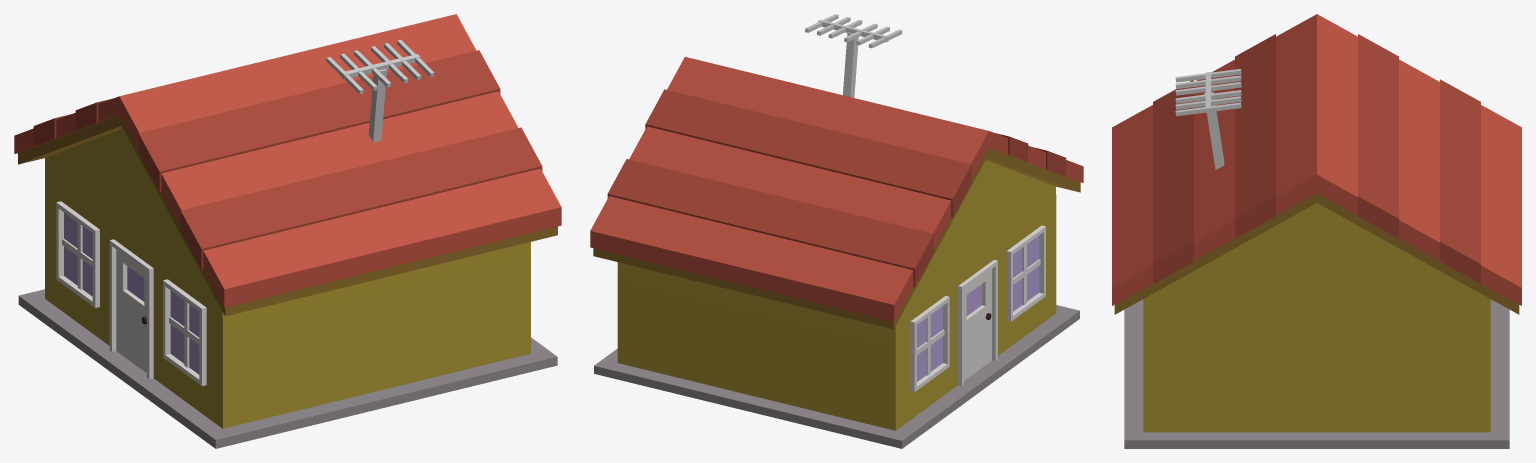
The model's file is Casa.fbx.
3 views of the same model, side by side, from view 1: azimuth 30°, elevation 25°; view 2: azimuth 150°, elevation 25°; view 3: azimuth 270°, elevation 25° (orthographic). The views are drawn at different scales.
Parts seen in each view (by area): view 1: Casa; view 2: Casa; view 3: Casa.
Boxes of the visible parts, box(x1,y1,x2,y2) form: Casa: box(14, 14, 561, 448); Casa: box(590, 14, 1083, 448); Casa: box(1112, 14, 1521, 448).
Size of the model in its own units: 368 by 315 by 392.
